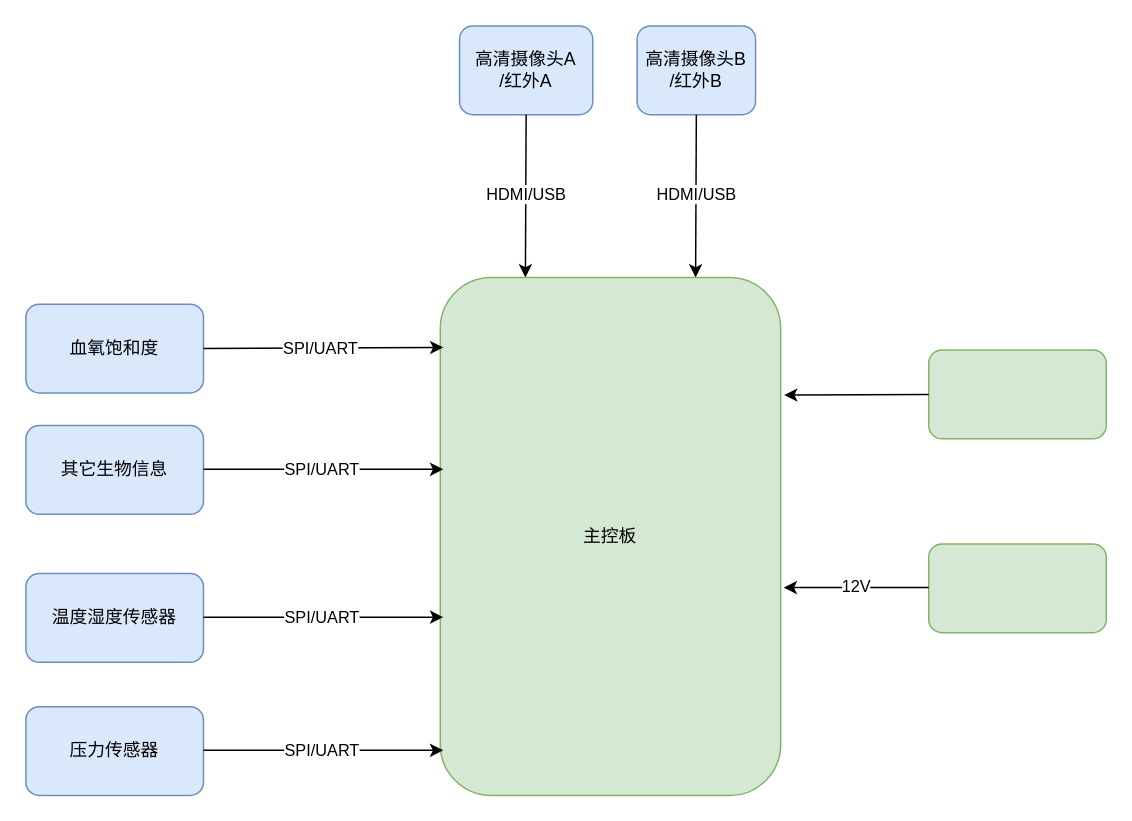
Some shapes in this 1132 by 821 pixel diagram are drawn without their labels. Each missing label, with the centre of its shape:
5G模块: the point at 1016,394
电源板: the point at 1016,587
